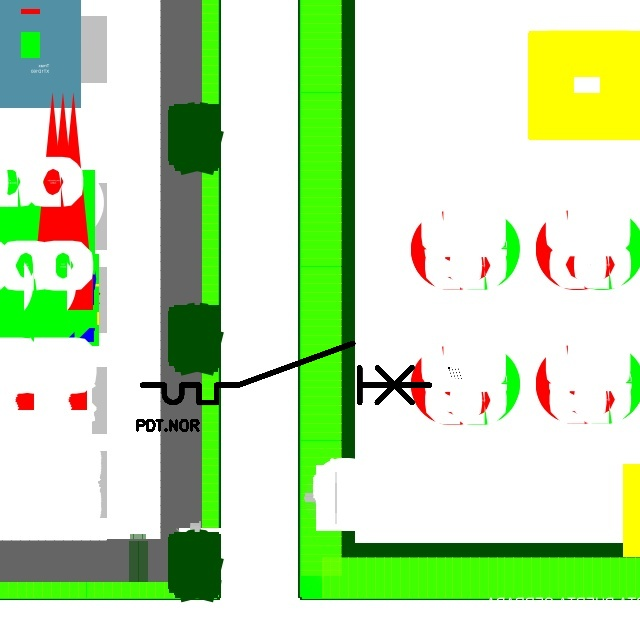interruptor_termomagnetico: (135, 336, 437, 410)
